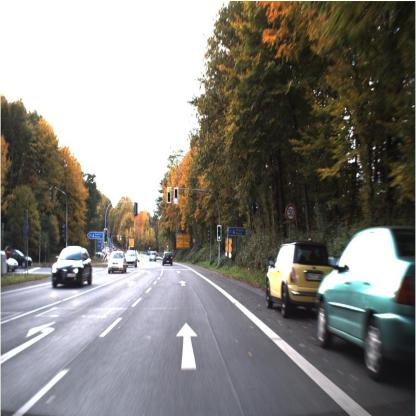prohibitory: (282, 199, 298, 224)
